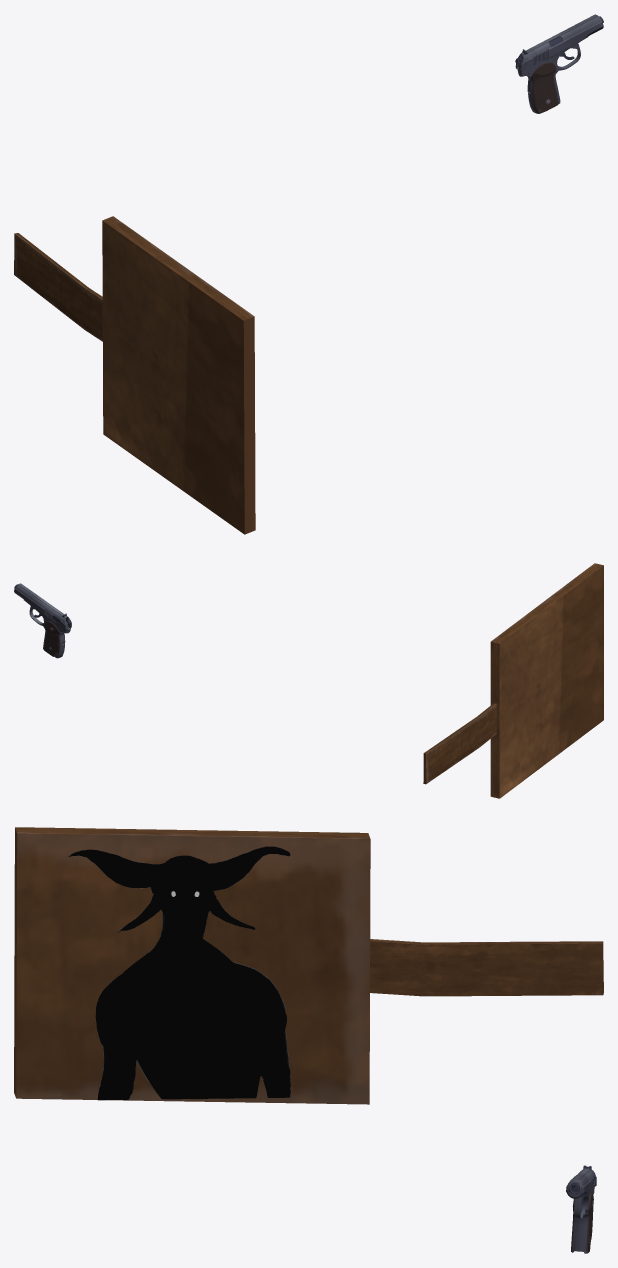
The model's file is ArmaEPlaca.fbx.
The picture shows the model from 3 angles, top to bottom: view 1: azimuth 30°, elevation 25°; view 2: azimuth 150°, elevation 25°; view 3: azimuth 270°, elevation 25°; orthographic projection. The views are drawn at different scales.
Visible parts, largest first — view 1: Cube.009, Pistola.001; view 2: Cube.009, Pistola.001; view 3: Cube.009, Pistola.001.
Boxes of the visible parts, <box> form: Cube.009: <box>14,216,255,534</box>; Pistola.001: <box>515,14,603,113</box>; Cube.009: <box>423,563,603,798</box>; Pistola.001: <box>14,583,71,658</box>; Cube.009: <box>14,827,603,1104</box>; Pistola.001: <box>566,1165,596,1253</box>.
Size of the model in its own units: 628 by 224 by 442.
